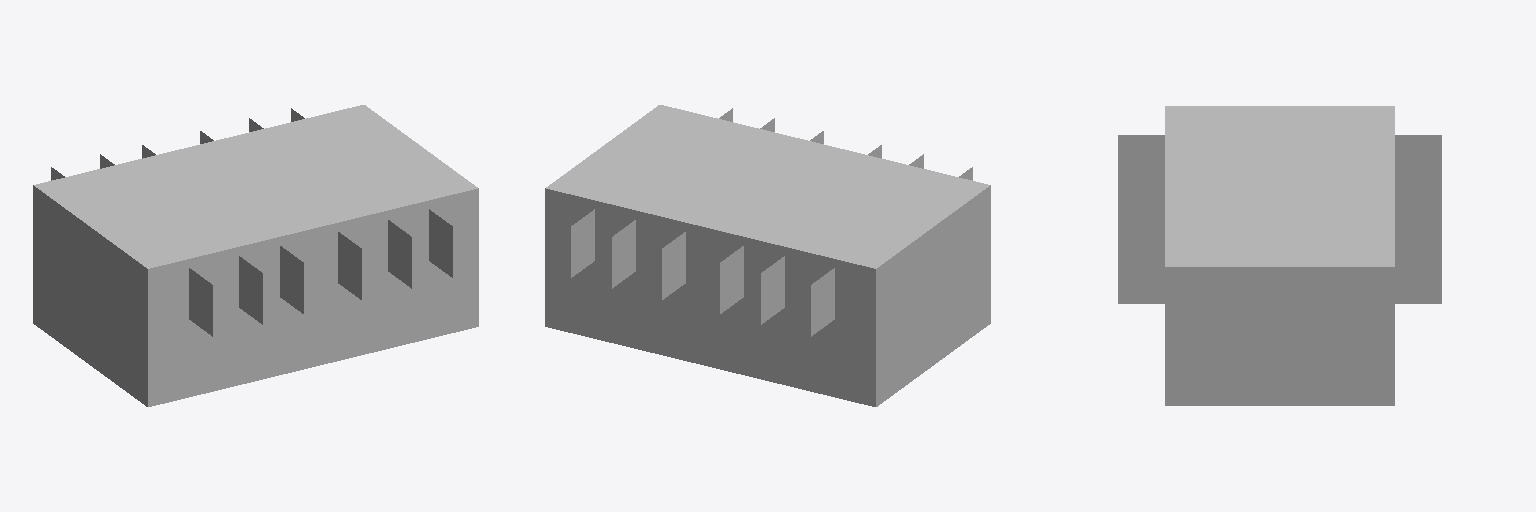
File: toto.obj
3 renders of one model, left to right at view 1: azimuth 30°, elevation 25°; view 2: azimuth 150°, elevation 25°; view 3: azimuth 270°, elevation 25°, orthographic.
Visible parts, largest first — view 1: mesa, Block; view 2: mesa, Block; view 3: mesa, Block.
Boxes of the visible parts, <box> form: mesa: <box>33,105,478,406</box>; Block: <box>51,108,452,336</box>; mesa: <box>545,105,990,406</box>; Block: <box>571,108,972,336</box>; mesa: <box>1165,106,1394,405</box>; Block: <box>1118,135,1441,303</box>.
Bounding box in the file's own units: 2.5 × 1 × 2.12.